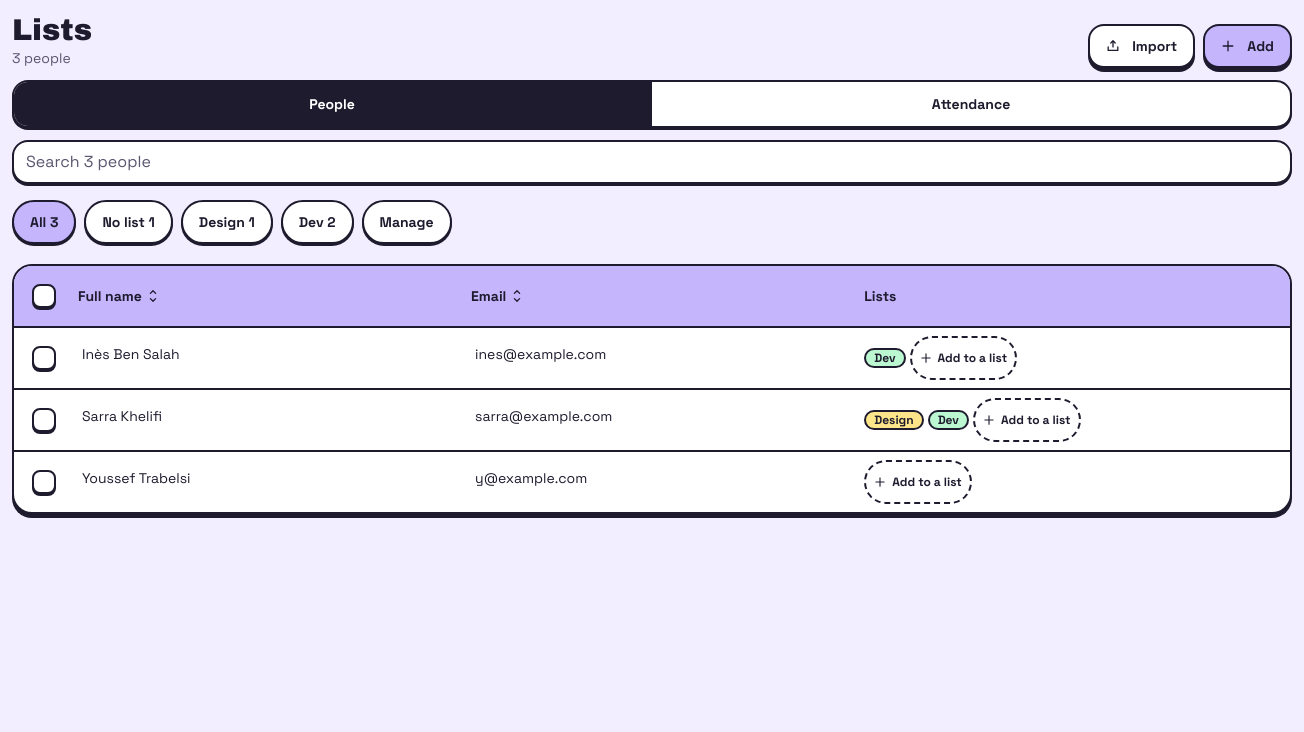
Test: RosterView › says when nobody matches
The width and height of the screenshot is (1304, 732).
Step 1. Type "zzz" into the search field named "Search people" → (652, 162), box [12,140,1292,184]
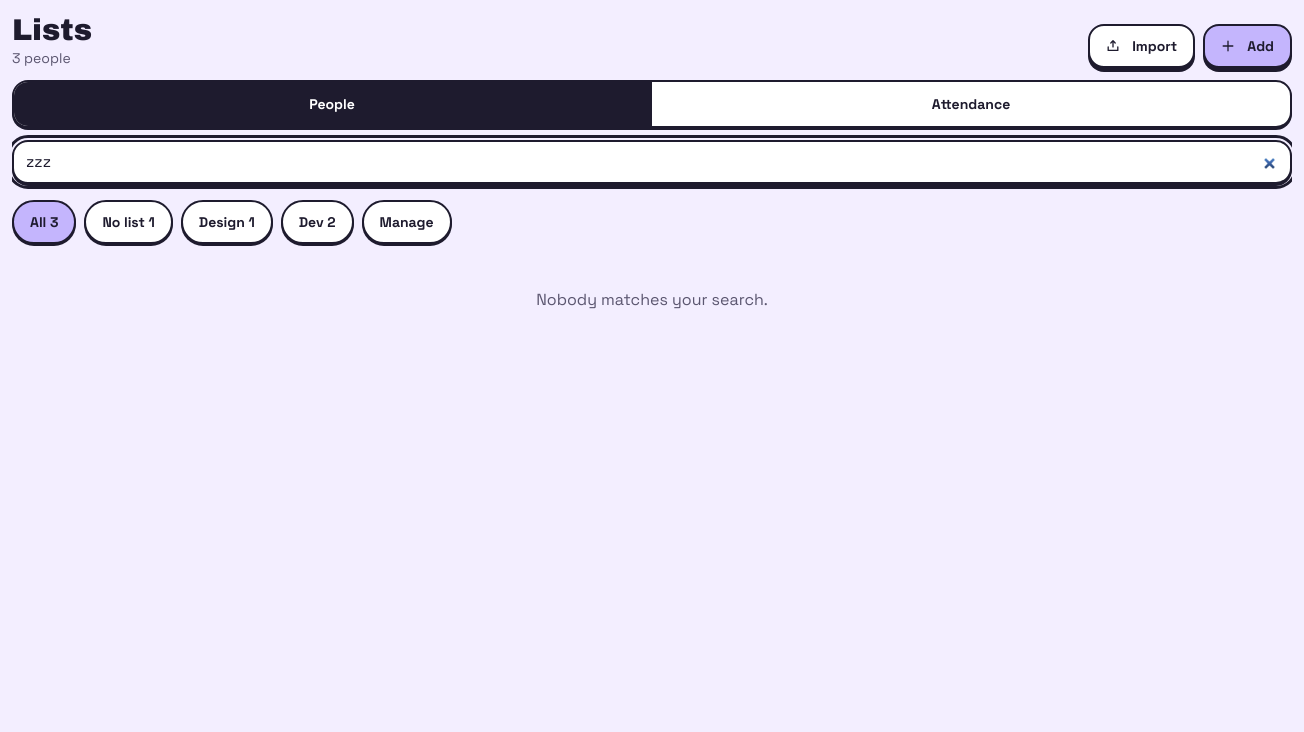
expect the text "Nobody matches your search." is shown: met, box [536,289,768,310]
